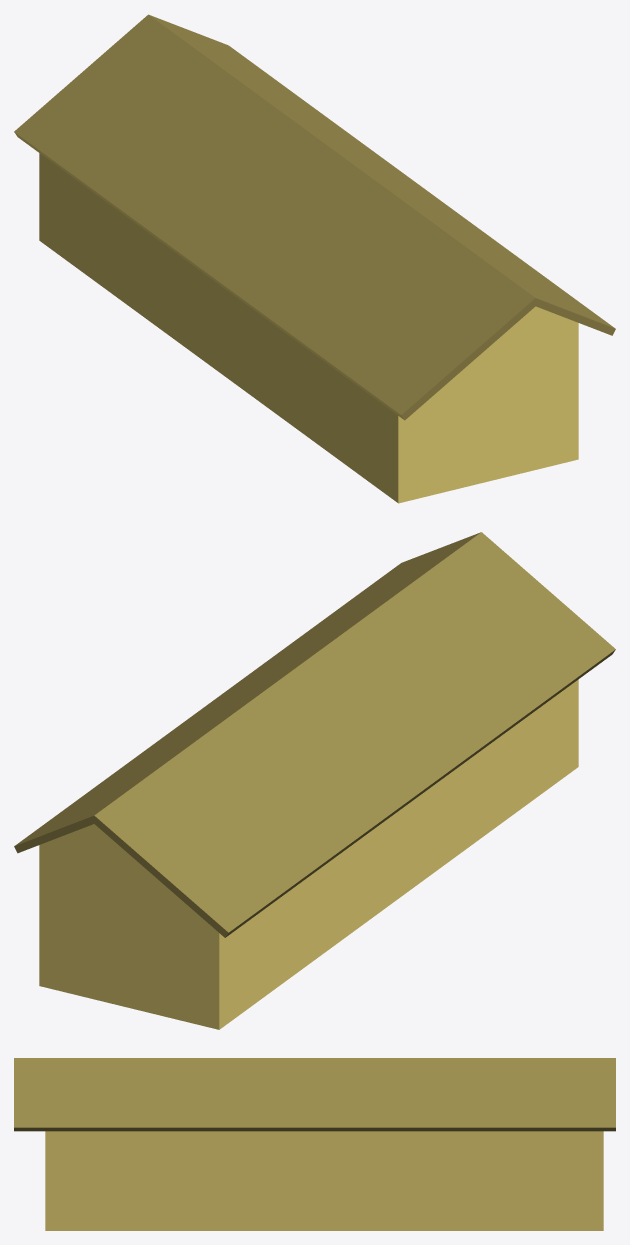
The model's file is result.glb.
The picture shows the model from 3 angles, top to bottom: view 1: azimuth 30°, elevation 25°; view 2: azimuth 150°, elevation 25°; view 3: azimuth 270°, elevation 25°; orthographic projection. The views are drawn at different scales.
Visible parts, largest first — view 1: 67e9ddd3-14ae-400b-8604-3df65b5b8cf3__undefined (×2), db22ad3e-6a60-4373-a4ef-faaa20762c85__undefined; view 2: 67e9ddd3-14ae-400b-8604-3df65b5b8cf3__undefined (×2), db22ad3e-6a60-4373-a4ef-faaa20762c85__undefined; view 3: db22ad3e-6a60-4373-a4ef-faaa20762c85__undefined, 67e9ddd3-14ae-400b-8604-3df65b5b8cf3__undefined.
Part boxes in pixels (left/top/right/bottom): 67e9ddd3-14ae-400b-8604-3df65b5b8cf3__undefined (×2): left=14, top=14, right=615, bottom=420; db22ad3e-6a60-4373-a4ef-faaa20762c85__undefined: left=39, top=153, right=578, bottom=503; 67e9ddd3-14ae-400b-8604-3df65b5b8cf3__undefined (×2): left=14, top=532, right=615, bottom=937; db22ad3e-6a60-4373-a4ef-faaa20762c85__undefined: left=39, top=679, right=578, bottom=1029; db22ad3e-6a60-4373-a4ef-faaa20762c85__undefined: left=45, top=1131, right=603, bottom=1230; 67e9ddd3-14ae-400b-8604-3df65b5b8cf3__undefined: left=14, top=1058, right=615, bottom=1131.
Bounding box in the file's own units: 782 × 667 × 2443.
